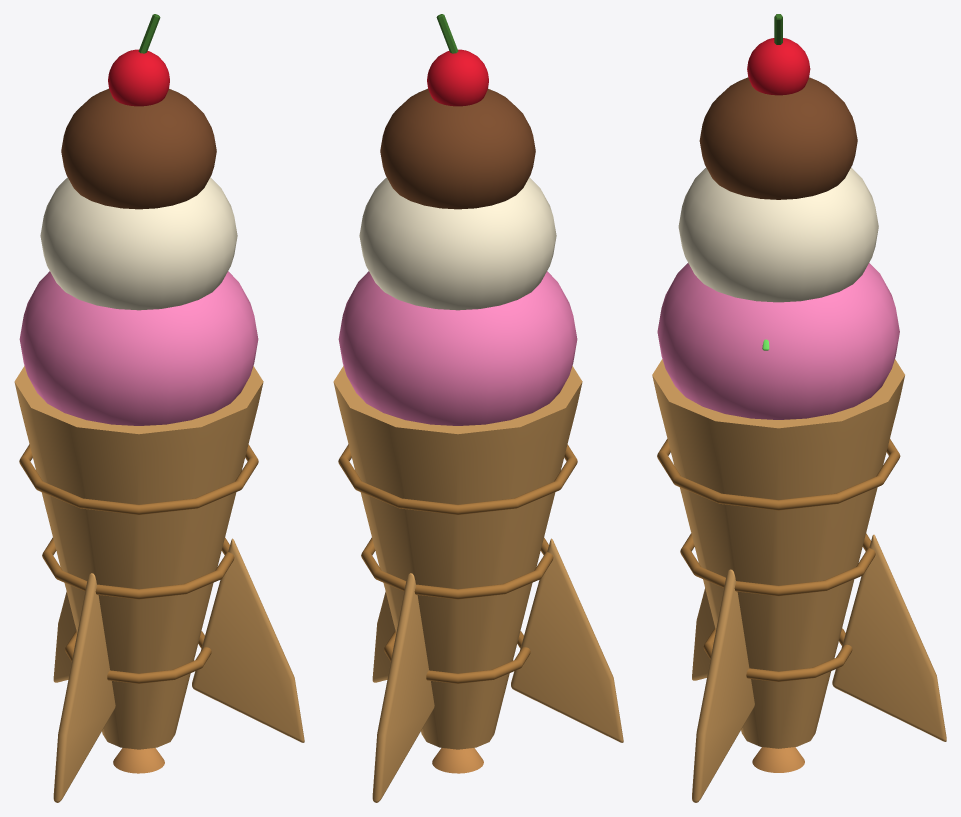
Rendered from Rocket_10_IceCream.fbx.
3 renders of one model, left to right at view 1: azimuth 30°, elevation 25°; view 2: azimuth 150°, elevation 25°; view 3: azimuth 270°, elevation 25°, orthographic.
Parts seen in each view (by area): view 1: R10_Cone, R10_ScoopPink, R10_ScoopVanilla, R10_ScoopChoco, R10_WaferFin_3, R10_WaferFin_2, R10_WaferLine_3, R10_Cherry, R10_WaferLine_2, R10_WaferLine, R10_WaferFin, R10_WaferTip; view 2: R10_Cone, R10_ScoopPink, R10_ScoopVanilla, R10_ScoopChoco, R10_WaferFin_2, R10_WaferFin, R10_WaferLine_3, R10_Cherry, R10_WaferLine_2, R10_WaferLine, R10_WaferFin_3, R10_WaferTip; view 3: R10_Cone, R10_ScoopPink, R10_ScoopVanilla, R10_ScoopChoco, R10_WaferFin, R10_WaferFin_3, R10_WaferLine_3, R10_Cherry, R10_WaferLine_2, R10_WaferLine, R10_WaferFin_2, R10_WaferTip.
Boxes of the visible parts, bbox=[...] form: R10_Cone: bbox=[14, 366, 263, 749]; R10_ScoopPink: bbox=[19, 271, 258, 425]; R10_ScoopVanilla: bbox=[40, 177, 237, 310]; R10_ScoopChoco: bbox=[61, 88, 216, 209]; R10_WaferFin_3: bbox=[192, 538, 304, 742]; R10_WaferFin_2: bbox=[53, 573, 115, 802]; R10_WaferLine_3: bbox=[19, 444, 258, 514]; R10_Cherry: bbox=[108, 49, 169, 106]; R10_WaferLine_2: bbox=[42, 537, 234, 599]; R10_WaferLine: bbox=[65, 631, 211, 683]; R10_WaferFin: bbox=[53, 592, 76, 682]; R10_WaferTip: bbox=[113, 748, 164, 773]; R10_Cone: bbox=[333, 366, 582, 749]; R10_ScoopPink: bbox=[338, 271, 577, 425]; R10_ScoopVanilla: bbox=[359, 177, 556, 310]; R10_ScoopChoco: bbox=[380, 88, 535, 209]; R10_WaferFin_2: bbox=[511, 538, 623, 742]; R10_WaferFin: bbox=[372, 573, 434, 802]; R10_WaferLine_3: bbox=[338, 444, 577, 514]; R10_Cherry: bbox=[427, 49, 488, 106]; R10_WaferLine_2: bbox=[361, 537, 553, 599]; R10_WaferLine: bbox=[384, 631, 530, 683]; R10_WaferFin_3: bbox=[372, 592, 395, 682]; R10_WaferTip: bbox=[432, 748, 483, 773]; R10_Cone: bbox=[652, 359, 904, 748]; R10_ScoopPink: bbox=[657, 263, 899, 419]; R10_ScoopVanilla: bbox=[678, 167, 878, 302]; R10_ScoopChoco: bbox=[699, 77, 857, 199]; R10_WaferFin: bbox=[832, 534, 946, 741]; R10_WaferFin_3: bbox=[692, 569, 754, 802]; R10_WaferLine_3: bbox=[657, 439, 900, 510]; R10_Cherry: bbox=[747, 38, 810, 95]; R10_WaferLine_2: bbox=[680, 533, 875, 596]; R10_WaferLine: bbox=[703, 628, 852, 681]; R10_WaferFin_2: bbox=[692, 588, 714, 680]; R10_WaferTip: bbox=[752, 747, 804, 772].
Bounding box in the file's own units: 2.78 × 7.91 × 2.79.
